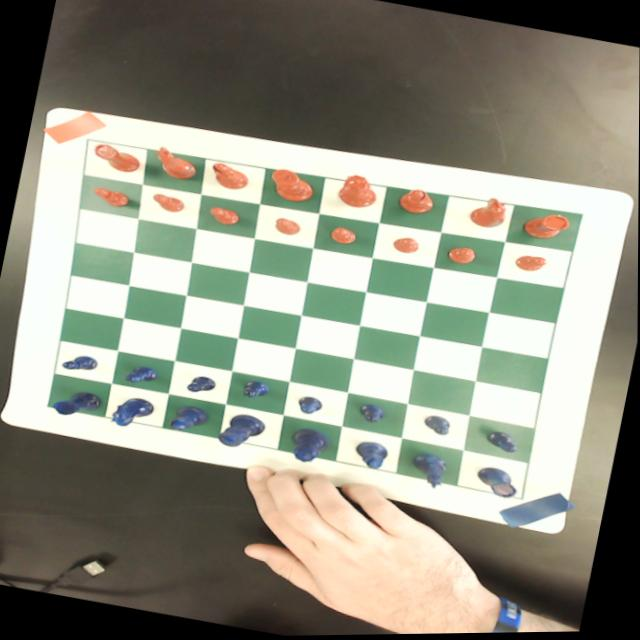B: (351, 438, 391, 473), (169, 404, 210, 436)
K: (218, 410, 268, 452)
N: (109, 393, 157, 432), (407, 452, 452, 491)
P: (60, 350, 102, 375), (485, 429, 522, 456), (123, 363, 160, 388), (421, 413, 455, 439), (356, 401, 388, 426), (186, 373, 219, 397), (295, 394, 326, 418), (242, 377, 271, 402)
Q: (288, 426, 332, 467)
R: (474, 464, 523, 501), (52, 385, 102, 421)
b: (209, 161, 253, 192), (398, 187, 438, 218)
k: (267, 167, 319, 205)
n: (151, 144, 200, 182), (470, 194, 510, 233)
p: (91, 185, 133, 209), (207, 205, 243, 228), (328, 224, 361, 248), (150, 192, 186, 214), (514, 253, 549, 275), (447, 244, 479, 267), (272, 216, 303, 238), (391, 235, 422, 256)
q: (338, 172, 381, 211)
r: (521, 209, 572, 245), (90, 141, 142, 175)
